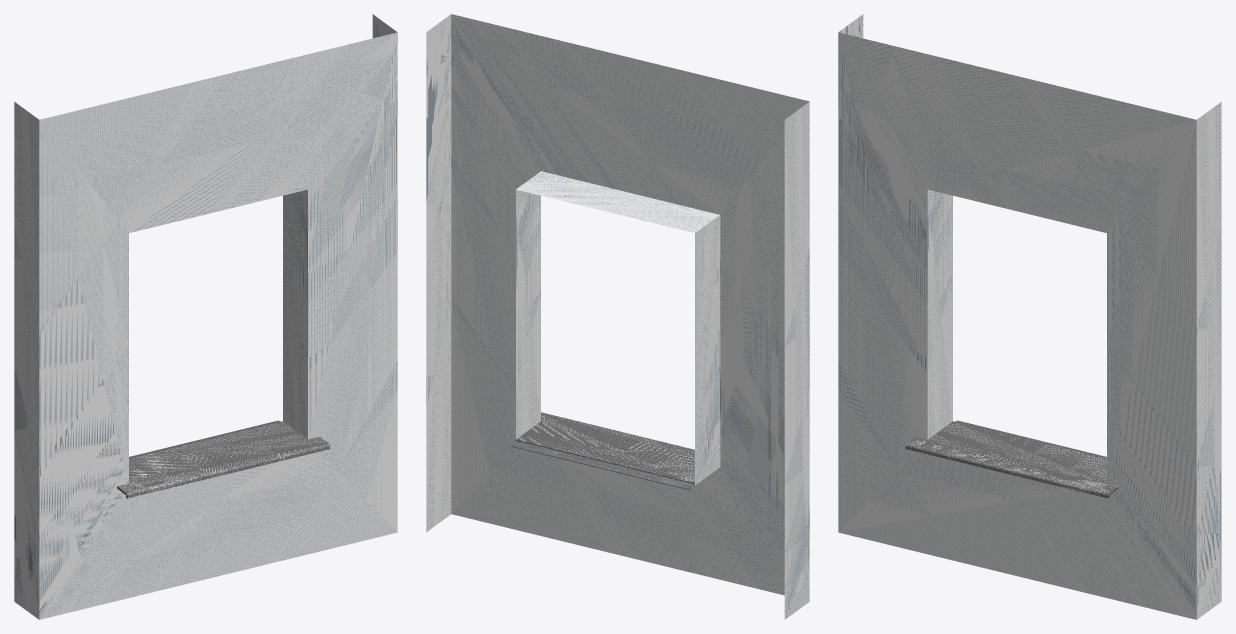
File: WindowBlock_os_plinth_[300x400]_150x200x[090].dae
3 views of the same model, side by side, from view 1: azimuth 30°, elevation 25°; view 2: azimuth 150°, elevation 25°; view 3: azimuth 330°, elevation 25° (orthographic).
Parts seen in each view (by area): view 1: group_2 (×2), group_1; view 2: group_2 (×2), group_1 (×2); view 3: group_2 (×2), group_1.
Part boxes in pixels (x1,y1,x2,y2): group_2 (×2): (14,14,397,619); group_1: (117,421,330,498); group_2 (×2): (426,14,809,619); group_1 (×2): (511,412,694,490); group_2 (×2): (838,14,1221,619); group_1: (905,421,1118,498).
Size of the model in its own units: 118 by 23.03 by 157.
